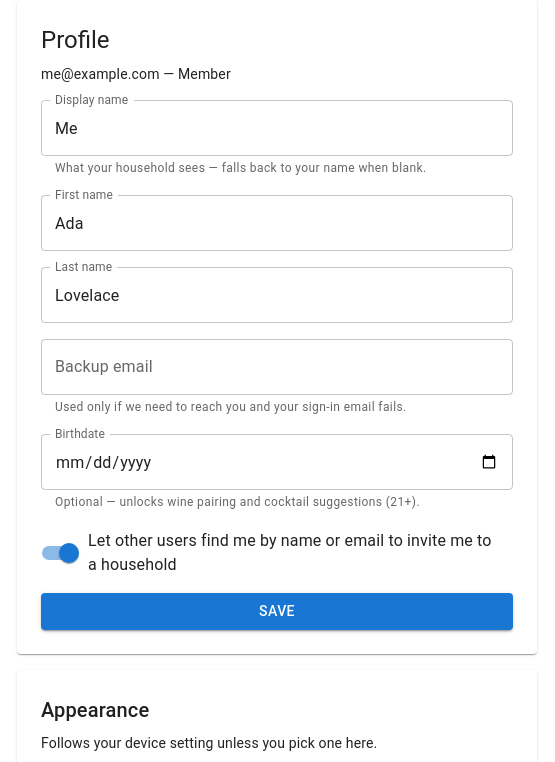
Test case: profile page › saves the profile
Type "alt@x.com" into the field labelled "Backup email". click: (277, 367)
box: [41,339,513,395]
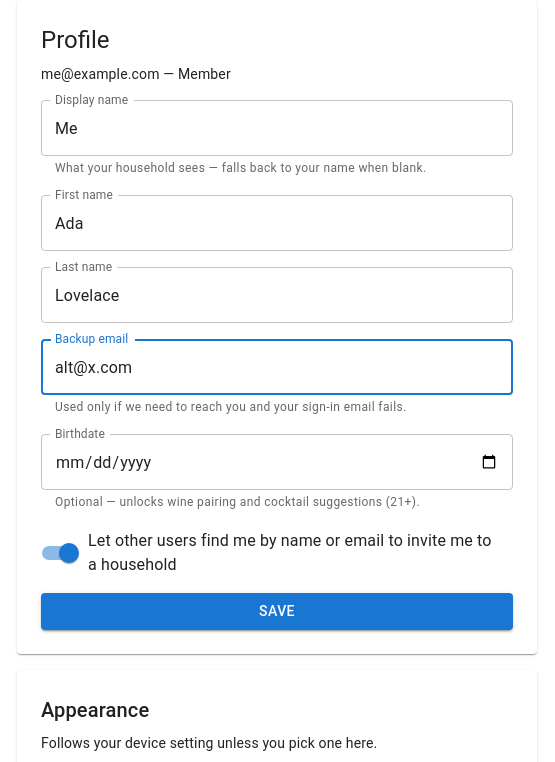
Click the button "Save". click: (277, 611)
box: [41,593,513,630]
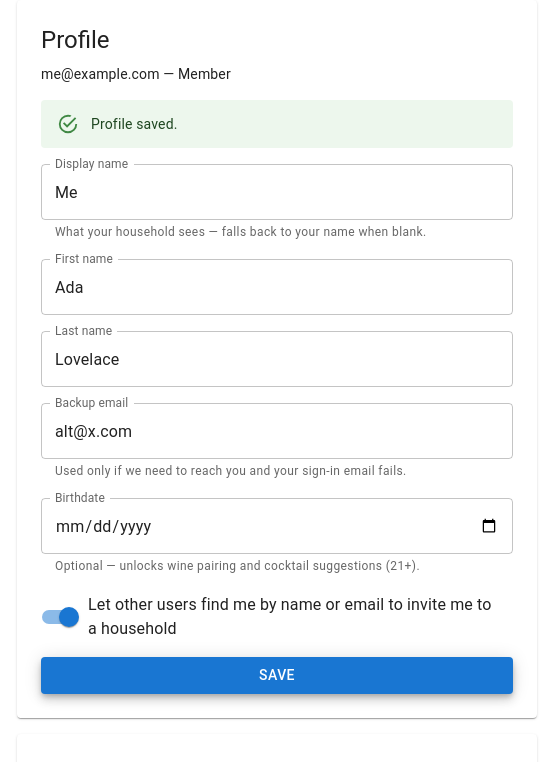
Now the text "Profile saved." is shown, box [91,116,178,132]
